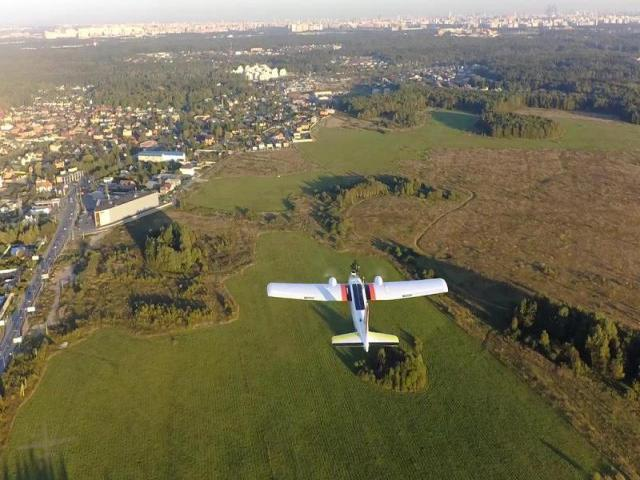hedef: (264, 266, 454, 356)
